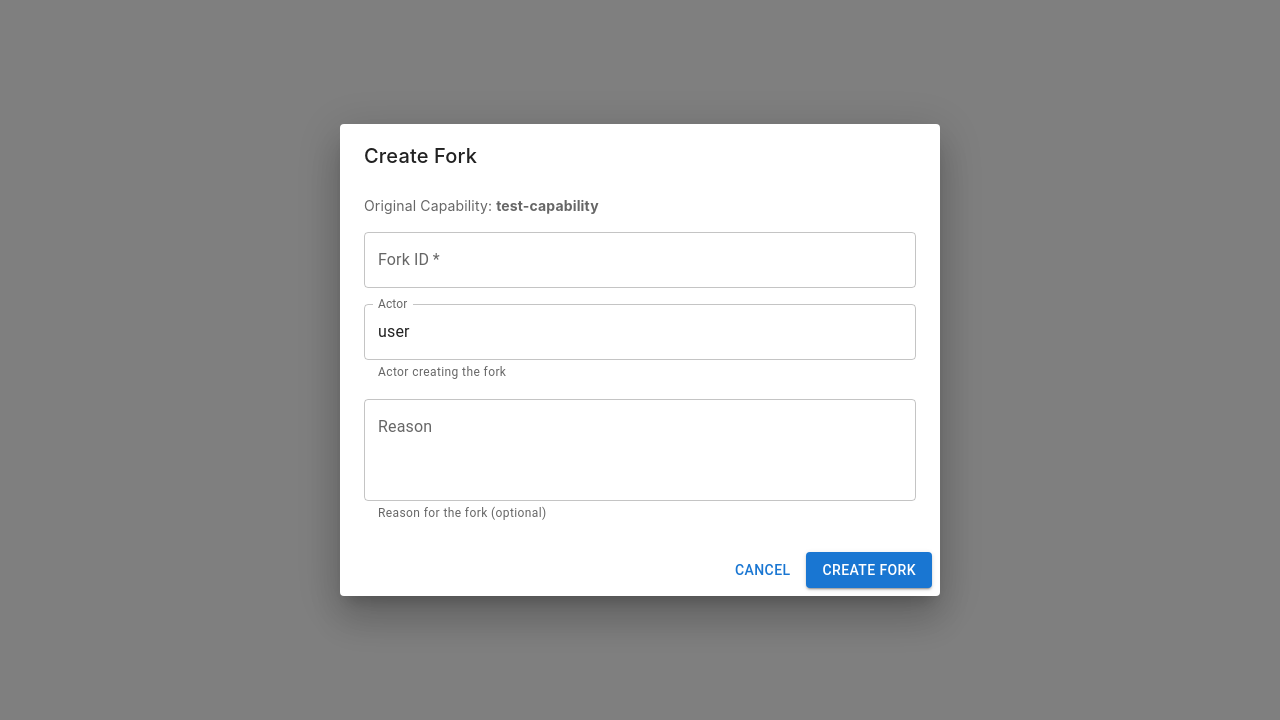
ForkDialog › handles API error gracefully
The width and height of the screenshot is (1280, 720).
# Fill fork ID
In the field labelled "Fork ID *": [640, 260] box left=364, top=232, right=916, bottom=288, type "forked-capability"
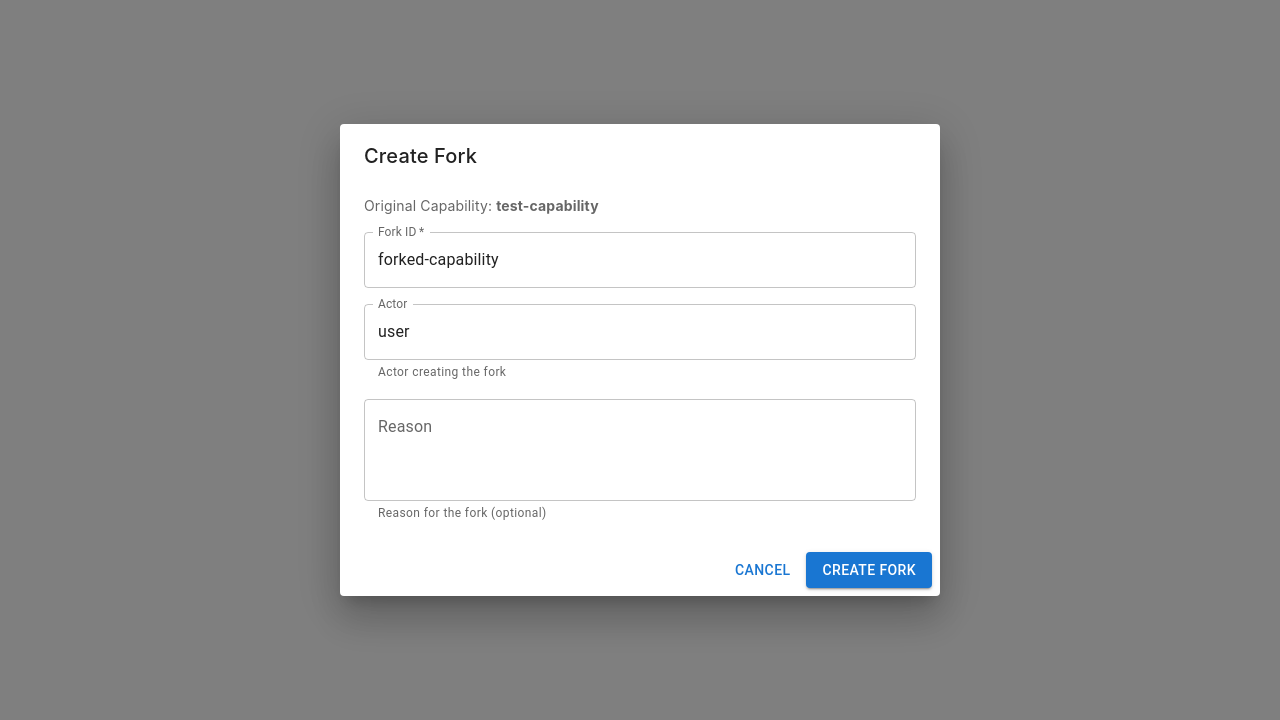
Click the button with test id "fork-submit-button": [869, 570] box left=806, top=552, right=932, bottom=588
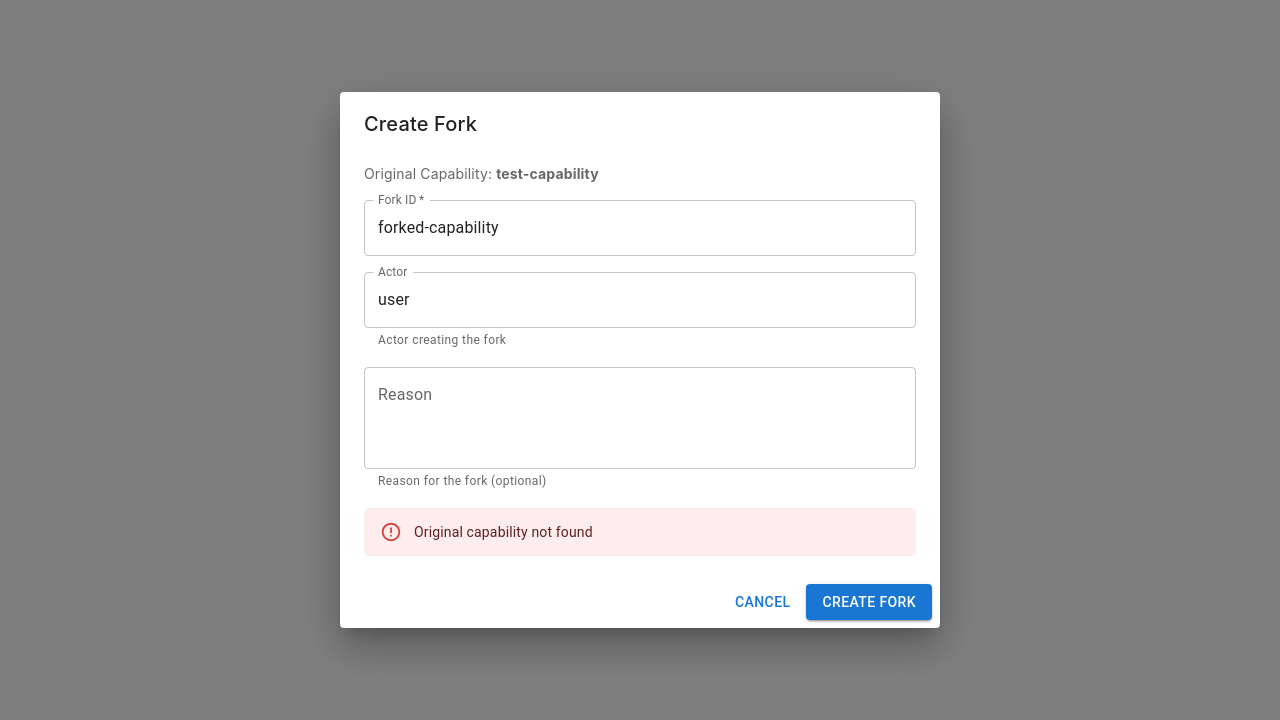
Now the text "Original capability not found" is shown, box left=414, top=524, right=593, bottom=540
